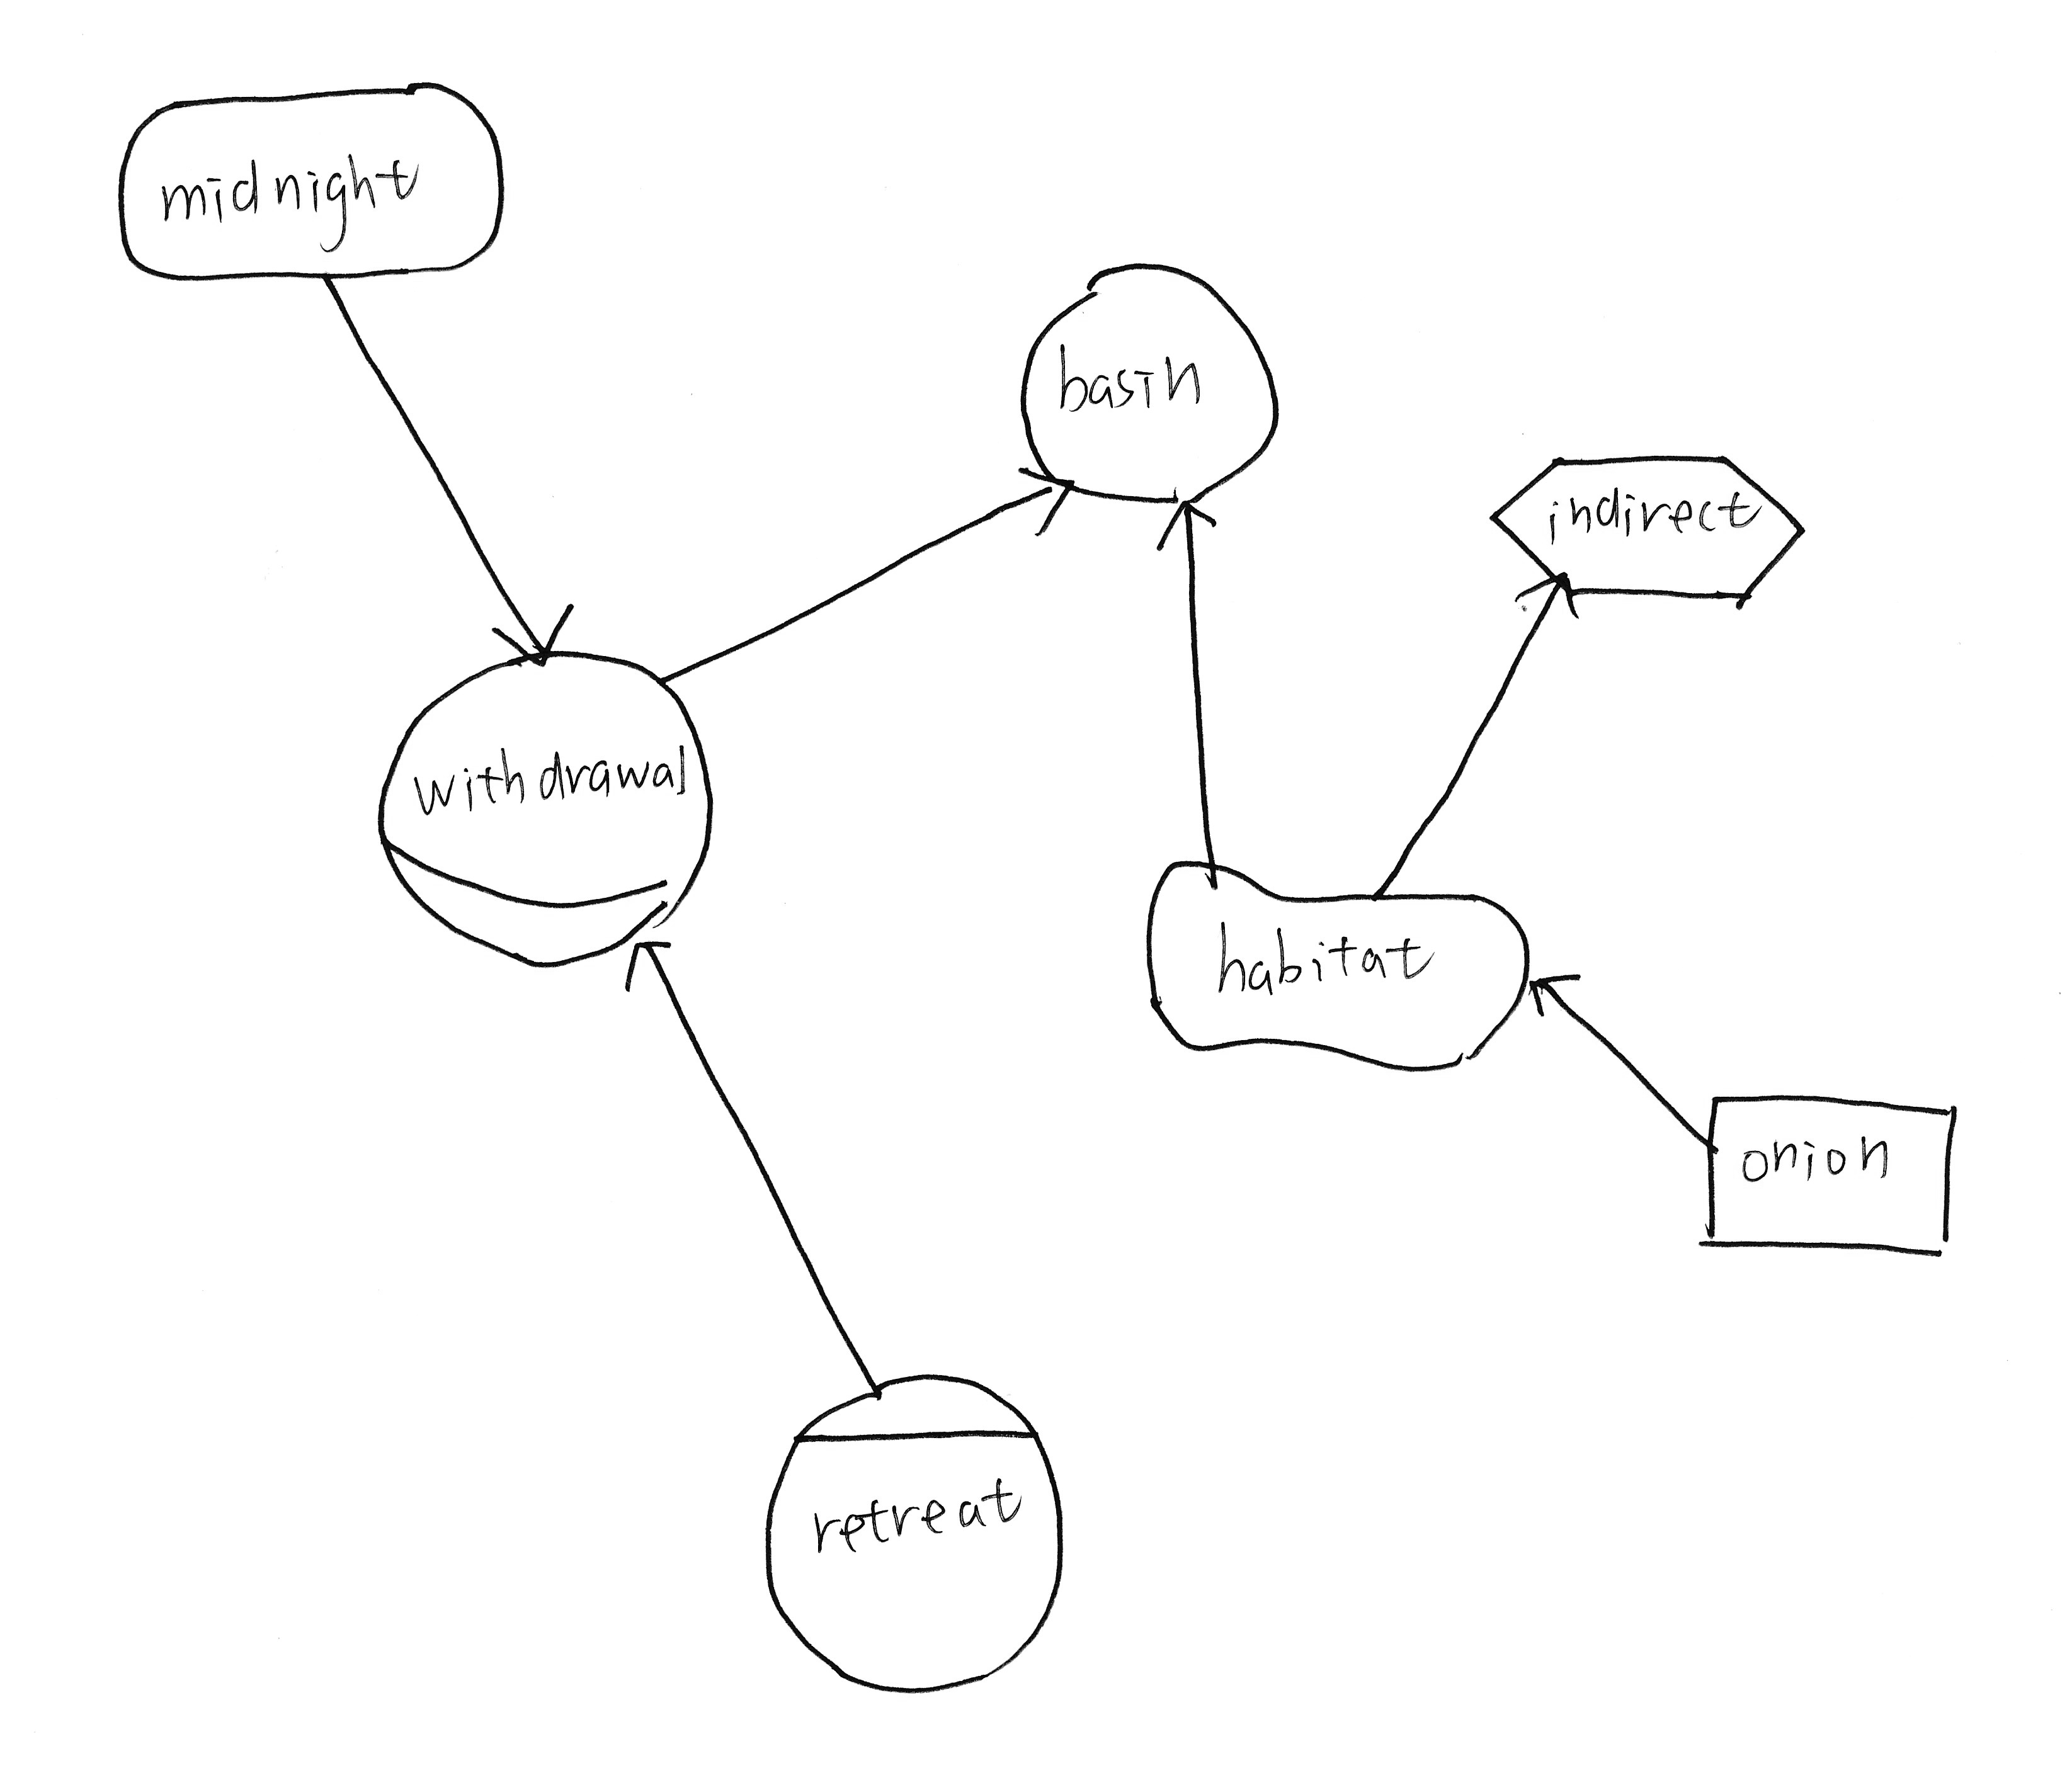actor: (1004, 241, 1300, 535)
agent: (742, 1349, 1096, 1717)
arrow: (999, 441, 1098, 554), (478, 589, 584, 681), (603, 916, 698, 1008), (1506, 558, 1606, 626), (1154, 480, 1229, 563), (1509, 952, 1581, 1027)
goal: (95, 63, 529, 315)
quality: (1120, 846, 1539, 1091)
resource: (1682, 1076, 1977, 1272)
role: (355, 624, 730, 992)
task: (1485, 438, 1824, 621)
